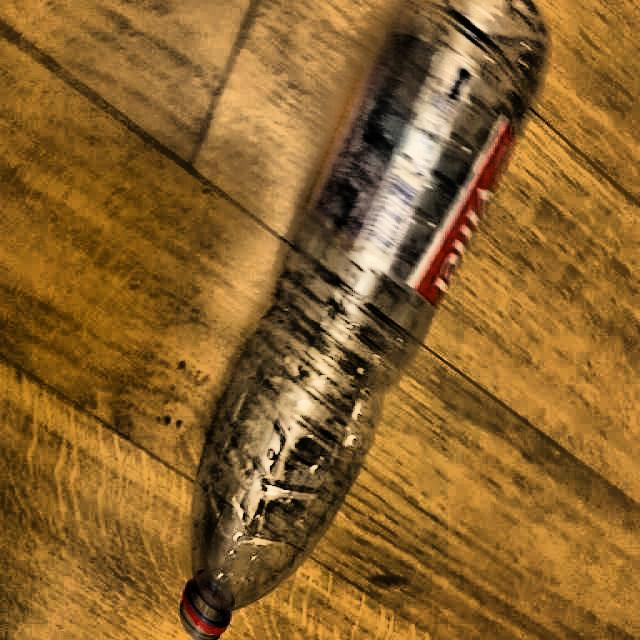plastic bottle: (180, 0, 549, 640)
